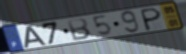5: (91, 14, 114, 37)
7: (41, 20, 60, 46)
9: (121, 9, 142, 35)
A: (24, 25, 48, 49)
B: (66, 18, 93, 42)
P: (140, 6, 162, 32)
